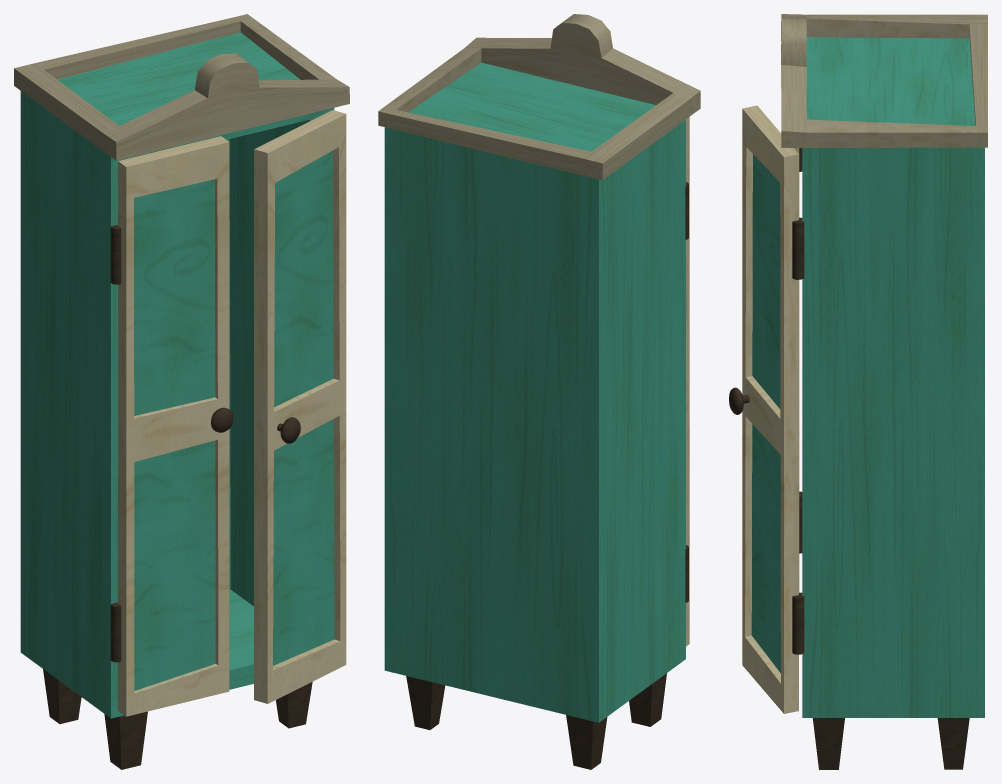
File: closet-1.fbx
The picture shows the model from 3 angles, left to right: view 1: azimuth 30°, elevation 25°; view 2: azimuth 150°, elevation 25°; view 3: azimuth 270°, elevation 25°; orthographic projection. The views are drawn at different scales.
Visible parts, largest first — view 1: Object_2, Object_3, Object_4, Object_5, Object_6, Object_8, Object_7, Object_9; view 2: Object_2, Object_8, Object_7, Object_5; view 3: Object_2, Object_6, Object_8, Object_4, Object_7, Object_12.
Boxes of the visible parts, left/top/right/bottom form: Object_2: left=20, top=32, right=334, bottom=718; Object_3: left=134, top=179, right=215, bottom=690; Object_4: left=273, top=150, right=334, bottom=665; Object_5: left=118, top=136, right=229, bottom=716; Object_6: left=254, top=110, right=346, bottom=703; Object_8: left=14, top=14, right=349, bottom=160; Object_7: left=43, top=669, right=312, bottom=769; Object_9: left=110, top=225, right=121, bottom=662; Object_2: left=384, top=62, right=685, bottom=722; Object_8: left=378, top=14, right=700, bottom=180; Object_7: left=406, top=673, right=666, bottom=769; Object_5: left=686, top=117, right=689, bottom=646; Object_2: left=802, top=37, right=984, bottom=717; Object_6: left=742, top=105, right=798, bottom=713; Object_8: left=781, top=14, right=987, bottom=147; Object_4: left=751, top=154, right=780, bottom=672; Object_7: left=812, top=718, right=969, bottom=769; Object_12: left=792, top=217, right=804, bottom=654.
Size of the model in its own units: 10081 by 28747 by 9582.
Materials: 11 (11 with a texture image).
